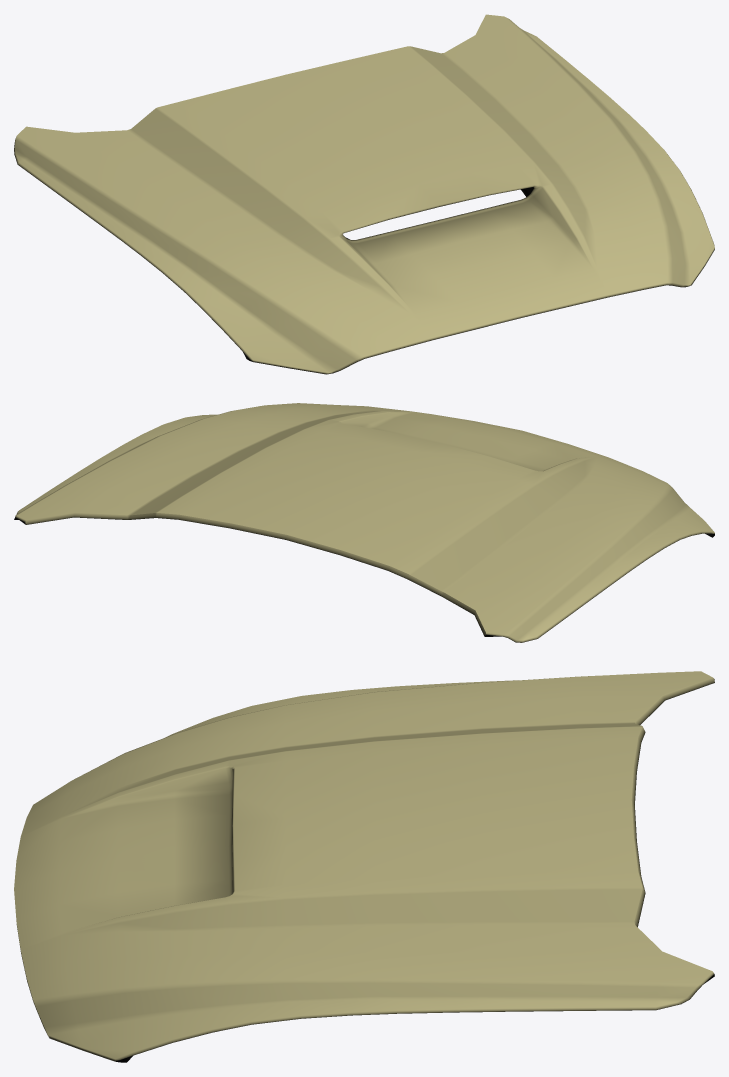
The model's file is Mustang16_Hood_08_Duco.fbx.
3 renders of one model, top to bottom at view 1: azimuth 30°, elevation 25°; view 2: azimuth 150°, elevation 25°; view 3: azimuth 270°, elevation 25°, orthographic. The views are drawn at different scales.
Visible parts, largest first — view 1: Mustang16_Hood_08_Duco; view 2: Mustang16_Hood_08_Duco; view 3: Mustang16_Hood_08_Duco.
Boxes of the visible parts, <box> form: Mustang16_Hood_08_Duco: <box>14,14,714,374</box>; Mustang16_Hood_08_Duco: <box>14,403,714,642</box>; Mustang16_Hood_08_Duco: <box>14,671,714,1062</box>.
Size of the model in its own units: 168 by 28.66 by 149.
